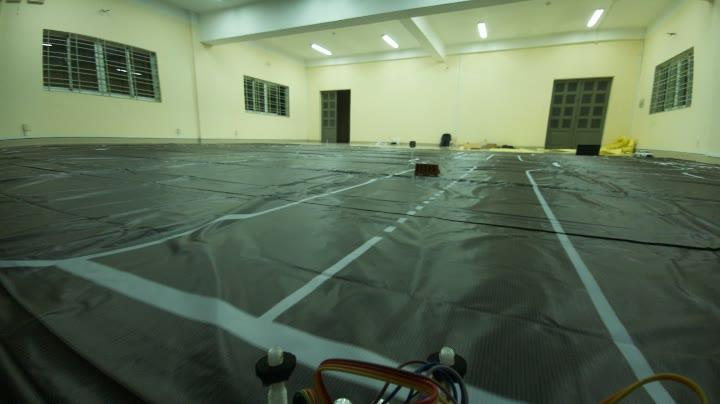roadblock: (412, 158, 444, 183)
